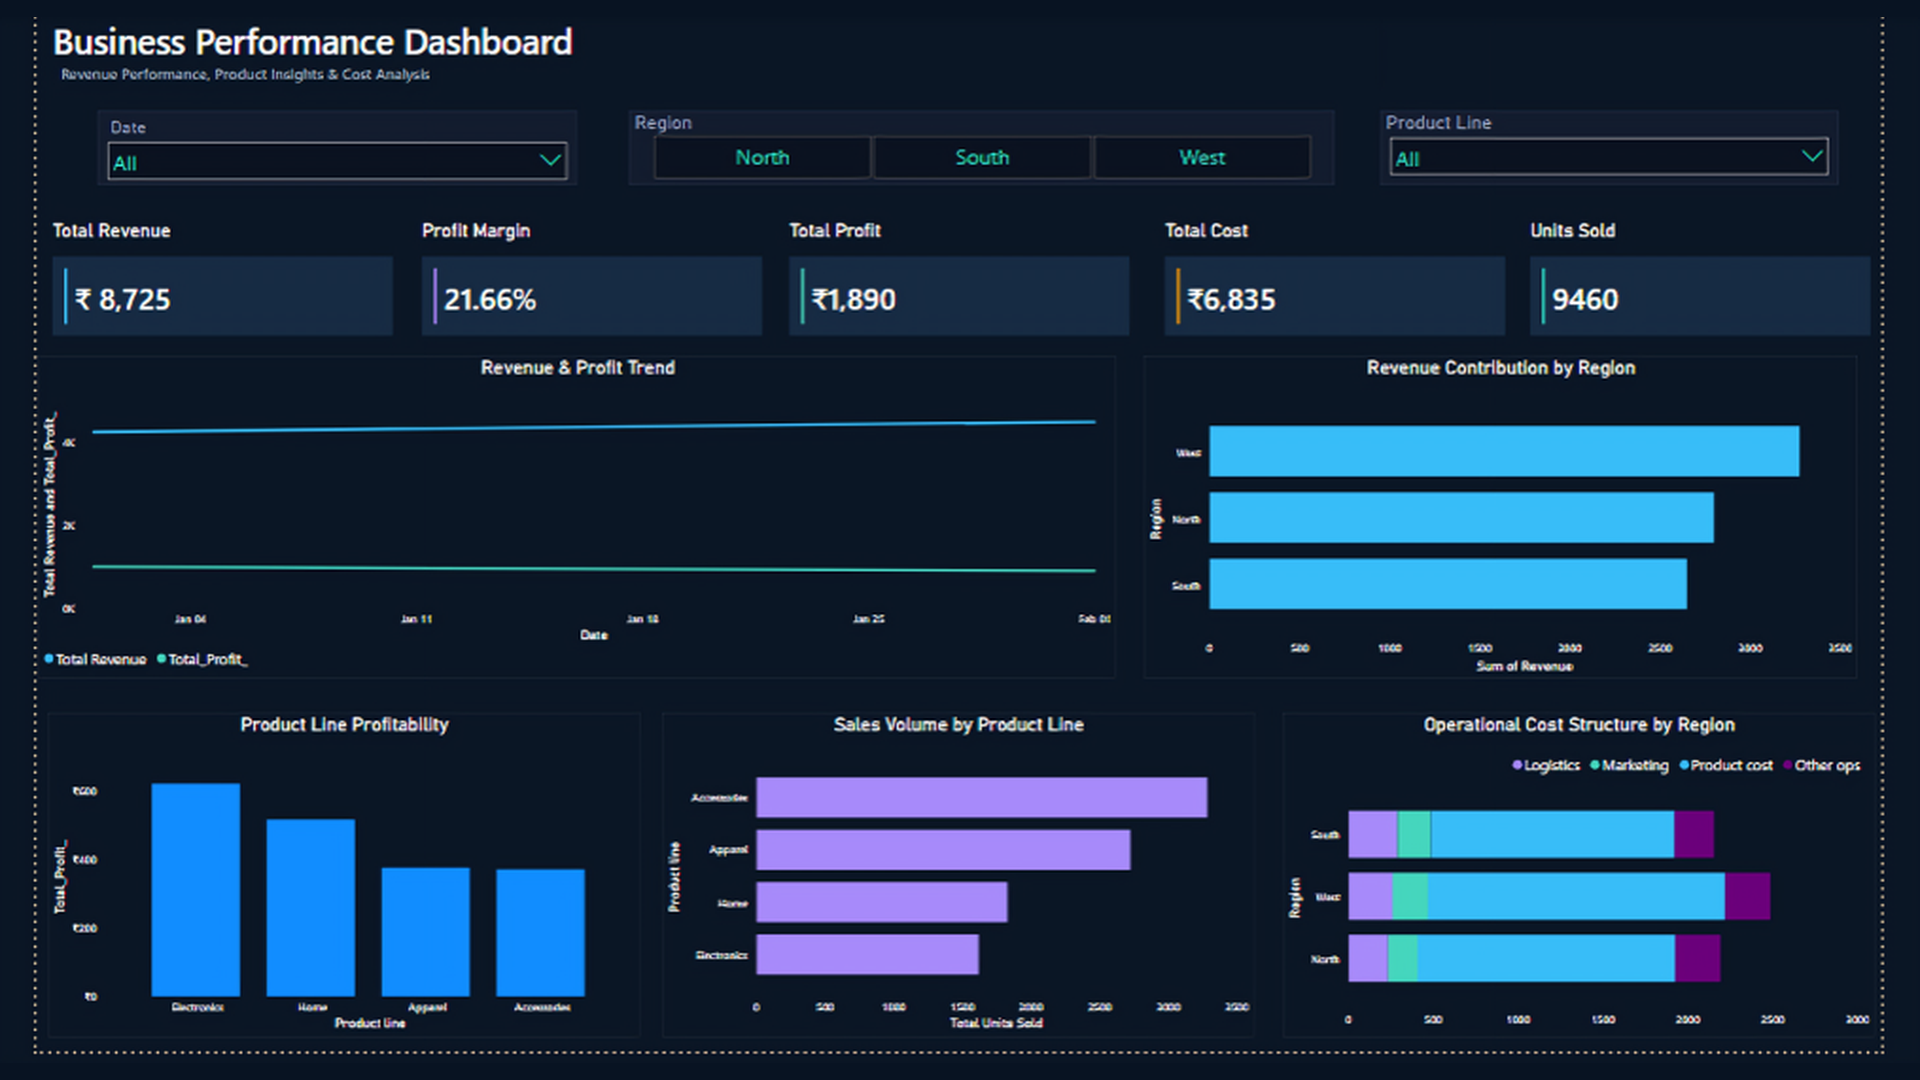

Layout of this report page (visuals, bound fields, positions):
{"tool":"powerbi","page":{"name":"Page 1","canvas":[2000,1125],"ordinal":0},"visuals":[{"type":"textbox","box":[11.2,0,1444.5,81],"z":0},{"type":"cardVisual","title":"Total Revenue","fields":{"Data":["retail_sales_analysis.Revenue_KPI_Display"]},"box":[11.2,225,379,130],"z":1000},{"type":"cardVisual","title":"Total Profit","fields":{"Data":["retail_sales_analysis.Total_Profit_"]},"box":[810,225,379,130],"z":2000},{"type":"cardVisual","title":"Profit Margin","fields":{"Data":["retail_sales_analysis.Profit_Margin %"]},"box":[411.8,225,379,130],"z":3000},{"type":"cardVisual","title":"Units Sold","fields":{"Data":["Sum(retail_sales_analysis.Units sold)"]},"box":[1613.2,225,379,130],"z":4000},{"type":"cardVisual","title":"Total Cost","fields":{"Data":["retail_sales_analysis.Total_Cost_With_Symbol"]},"box":[1217.2,225,379,130],"z":5000},{"type":"slicer","fields":{"Values":["retail_sales_analysis.Date"]},"box":[65.2,105.8,519.8,81],"z":6000},{"type":"slicer","title":"Region","fields":{"Values":["retail_sales_analysis.Region"]},"box":[641.2,105.8,765,81],"z":7000},{"type":"slicer","title":"Product Line","fields":{"Values":["retail_sales_analysis.Product line"]},"box":[1455.8,105.8,497.2,81],"z":8000},{"type":"lineChart","title":"Revenue & Profit Trend","fields":{"Y":["Sum(retail_sales_analysis.Revenue )","retail_sales_analysis.Total Profit"],"Category":["retail_sales_analysis.Date"]},"box":[0,371.2,1170,350],"z":9000},{"type":"clusteredBarChart","title":"Revenue Contribution by Region","fields":{"Category":["retail_sales_analysis.Region"],"Y":["Sum(retail_sales_analysis.Revenue )"]},"box":[1199.2,371.2,774,350],"z":10000},{"type":"clusteredColumnChart","title":"Product Line Profitability","fields":{"Y":["retail_sales_analysis.Total Profit"],"Category":["retail_sales_analysis.Product line"]},"box":[11.2,758.2,642,352],"z":11000},{"type":"barChart","title":"Operational Cost Structure by Region","fields":{"Y":["Sum(retail_sales_analysis.Logistics (₹000))","Sum(retail_sales_analysis.Marketing (₹000))","Sum(retail_sales_analysis.Product cost (₹000))","Sum(retail_sales_analysis.Other ops (₹000))"],"Category":["retail_sales_analysis.Region"]},"box":[1350,758.2,642,352],"z":12000},{"type":"clusteredBarChart","title":"Sales Volume by Product Line","fields":{"Category":["retail_sales_analysis.Product line"],"Y":["retail_sales_analysis.Total Units Sold"]},"box":[677.2,758.2,642,352],"z":13000}]}

Visuals, with their boxes in screenshot pixels (x1, y1, x2, y2), scaled from the page's 2000x1125 canvas onto the 1920x1080 screenshot:
textbox: l=11, t=0, r=1397, b=78
"Total Revenue" cardVisual: l=11, t=216, r=375, b=341
"Total Profit" cardVisual: l=778, t=216, r=1141, b=341
"Profit Margin" cardVisual: l=395, t=216, r=759, b=341
"Units Sold" cardVisual: l=1549, t=216, r=1913, b=341
"Total Cost" cardVisual: l=1169, t=216, r=1532, b=341
slicer - retail_sales_analysis.Date: l=63, t=102, r=562, b=179
"Region" slicer: l=616, t=102, r=1350, b=179
"Product Line" slicer: l=1398, t=102, r=1875, b=179
"Revenue & Profit Trend" lineChart: l=0, t=356, r=1123, b=692
"Revenue Contribution by Region" clusteredBarChart: l=1151, t=356, r=1894, b=692
"Product Line Profitability" clusteredColumnChart: l=11, t=728, r=627, b=1066
"Operational Cost Structure by Region" barChart: l=1296, t=728, r=1912, b=1066
"Sales Volume by Product Line" clusteredBarChart: l=650, t=728, r=1266, b=1066
